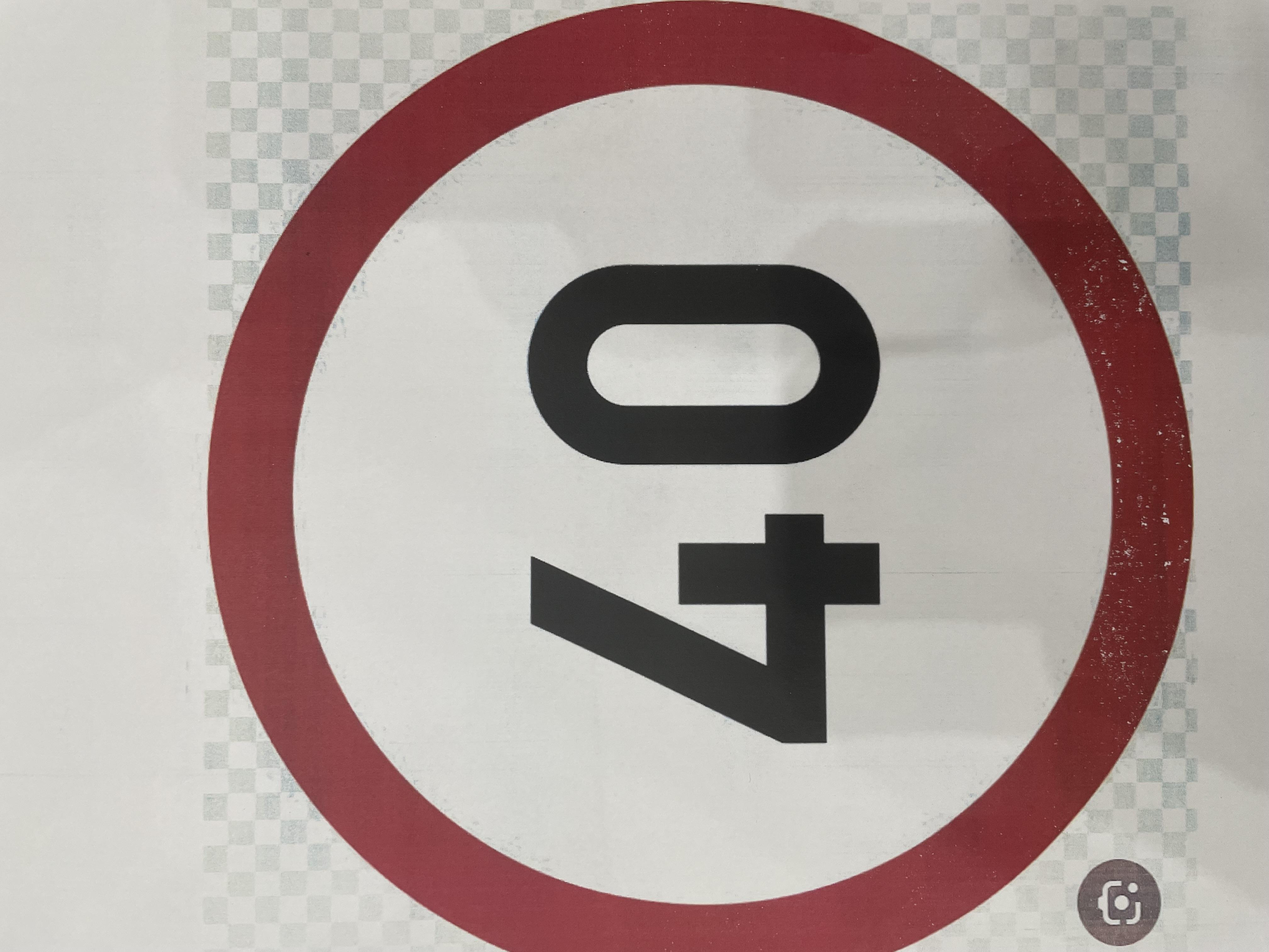40-Speed: (18, 140, 1269, 906)
